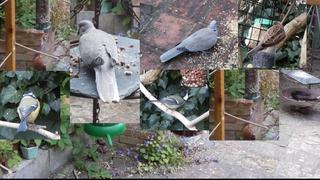blue tit: (16, 91, 40, 132)
collared dove: (77, 20, 120, 103), (160, 20, 218, 63)
great tit: (147, 90, 189, 114)
sparrow: (246, 20, 286, 59)
